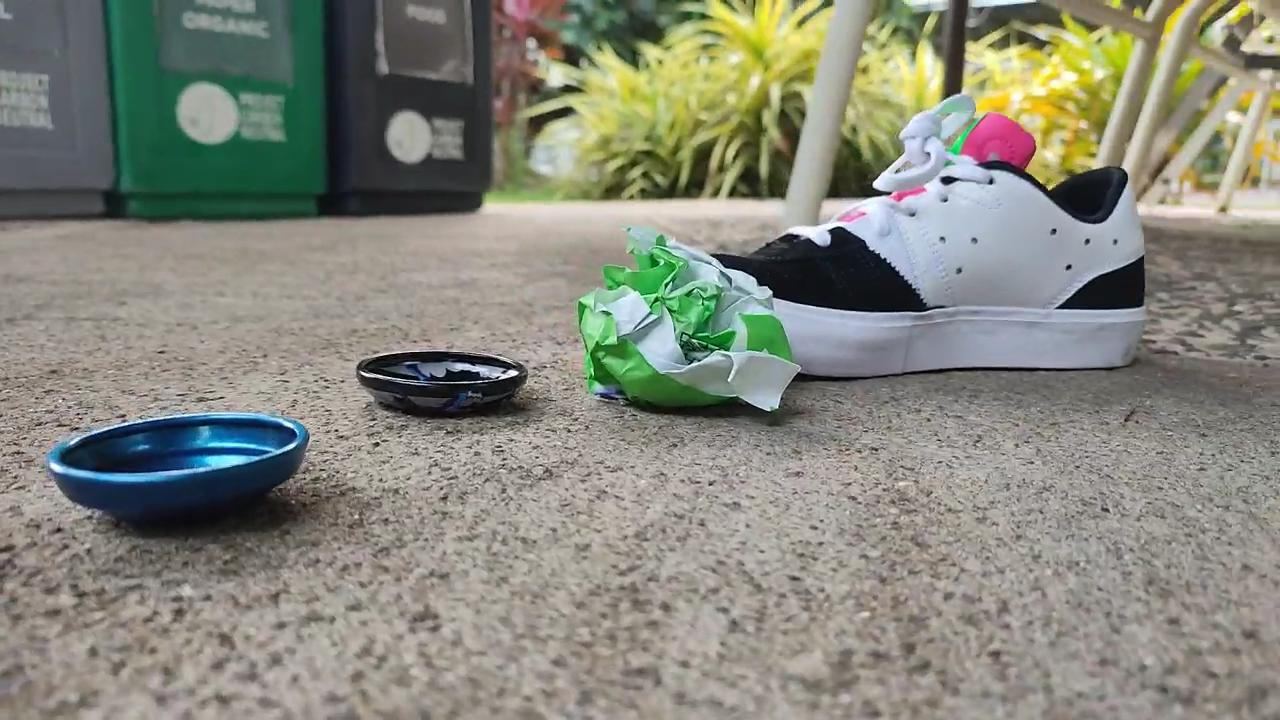Paper: (555, 204, 809, 439)
